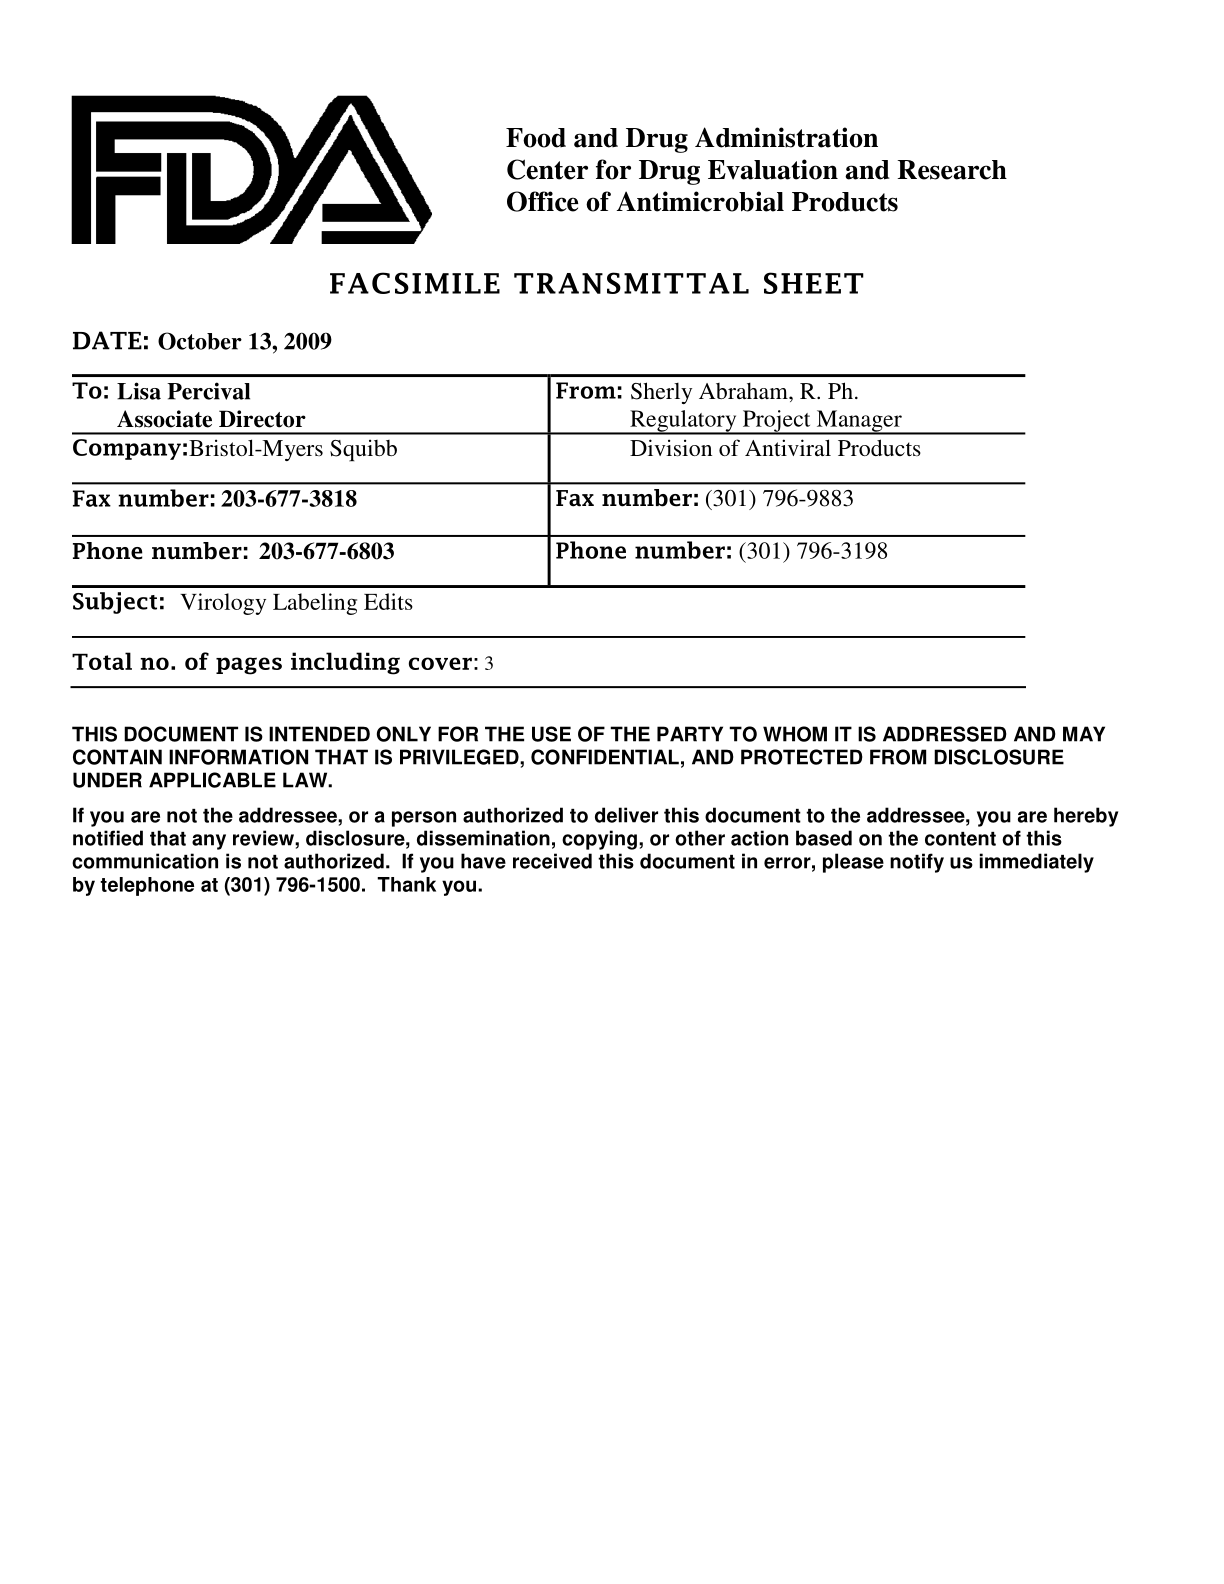partial_lined_merged_cells: (68, 369, 1029, 692)
